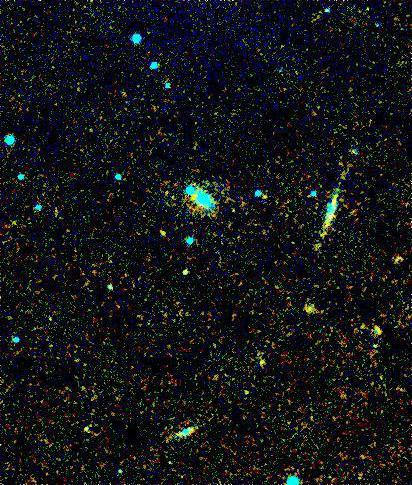star: (248, 182, 278, 212)
